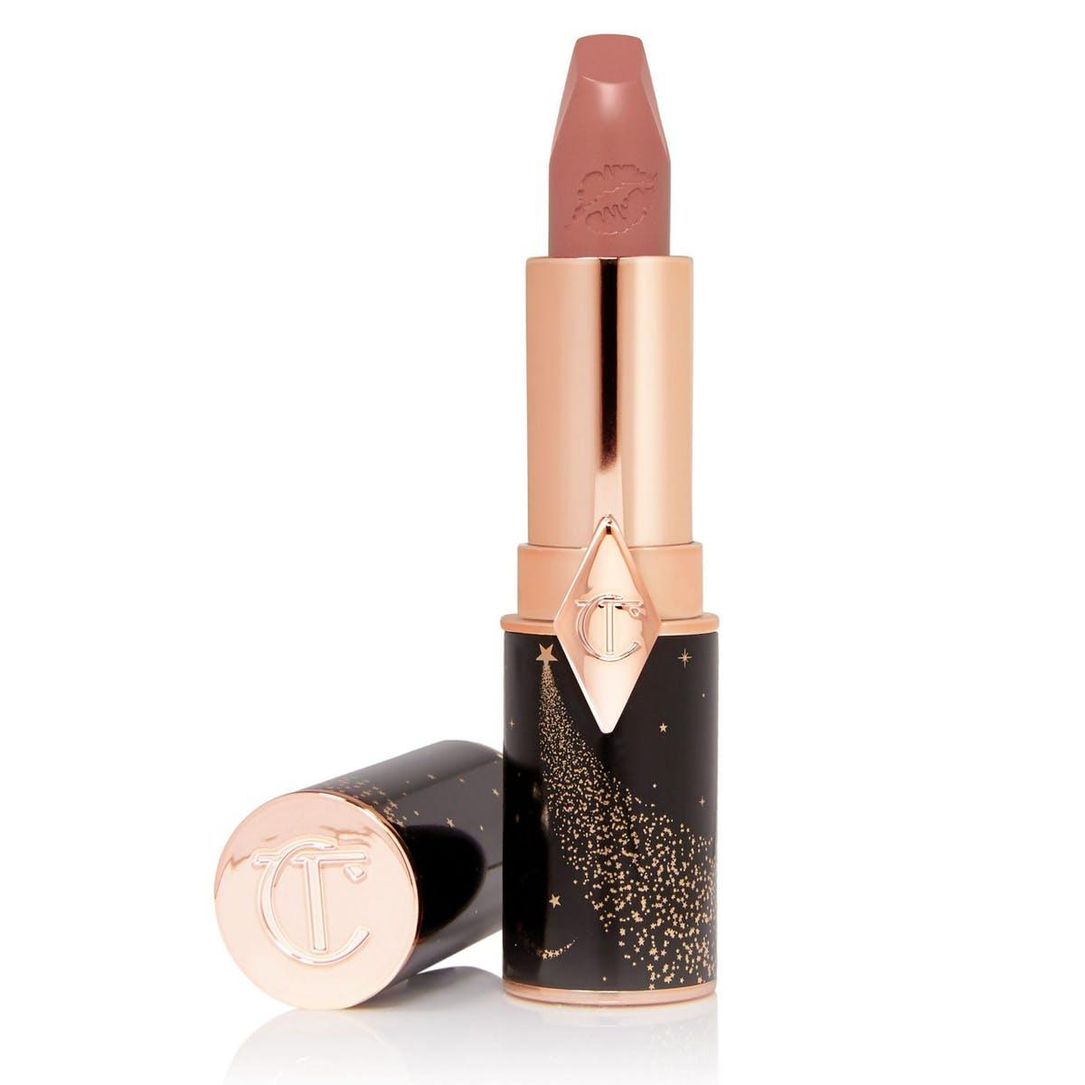lipstick: (246, 11, 784, 1073)
